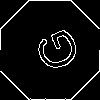G: (25, 25, 82, 79)
